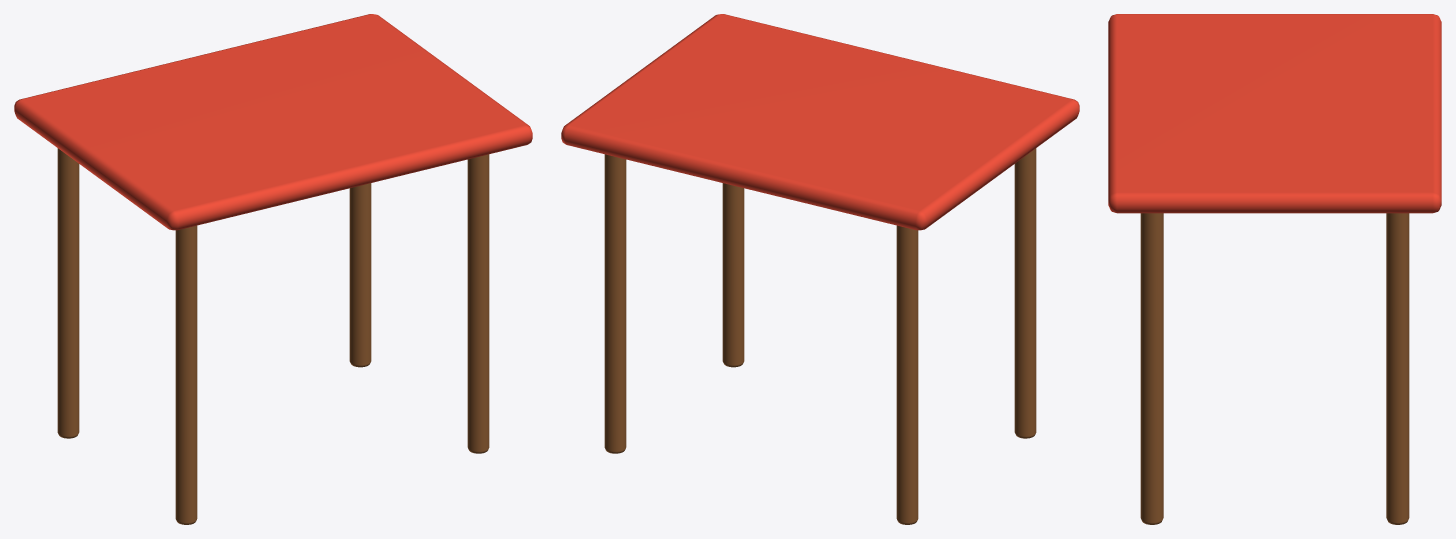
File: BSC-24.glb
The picture shows the model from 3 angles, left to right: view 1: azimuth 30°, elevation 25°; view 2: azimuth 150°, elevation 25°; view 3: azimuth 270°, elevation 25°; orthographic projection. The views are drawn at different scales.
Parts seen in each view (by area): view 1: cloth canopy, shelter post.002, shelter post, shelter post.001, shelter post.003; view 2: cloth canopy, shelter post.003, shelter post.001, shelter post, shelter post.002; view 3: cloth canopy, shelter post.002, shelter post.003.
Boxes of the visible parts, <box> form: cloth canopy: <box>14,14,532,230</box>; shelter post.002: <box>467,154,489,453</box>; shelter post: <box>175,225,197,524</box>; shelter post.001: <box>57,148,79,438</box>; shelter post.003: <box>349,183,371,367</box>; cloth canopy: <box>561,14,1079,230</box>; shelter post.003: <box>604,154,626,453</box>; shelter post.001: <box>896,225,918,524</box>; shelter post: <box>1014,148,1036,438</box>; shelter post.002: <box>722,183,744,367</box>; cloth canopy: <box>1108,14,1441,213</box>; shelter post.002: <box>1140,213,1163,524</box>; shelter post.003: <box>1386,213,1409,524</box>.
Bounding box in the file's own units: 2.5 × 2.16 × 1.9.
